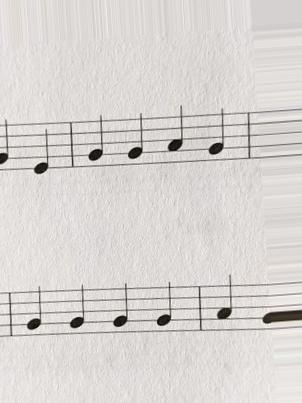A: (162, 102, 189, 172), (211, 270, 236, 342)
E: (28, 118, 54, 180)
G: (17, 281, 48, 346), (83, 111, 109, 176), (123, 111, 148, 174), (205, 107, 229, 170), (151, 280, 175, 338), (68, 283, 91, 341), (108, 282, 132, 336)
